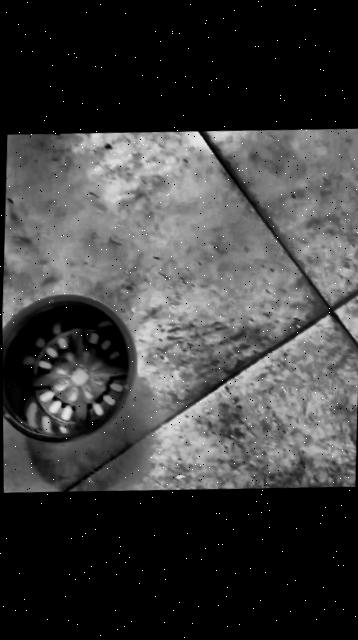pot: (2, 289, 137, 450)
